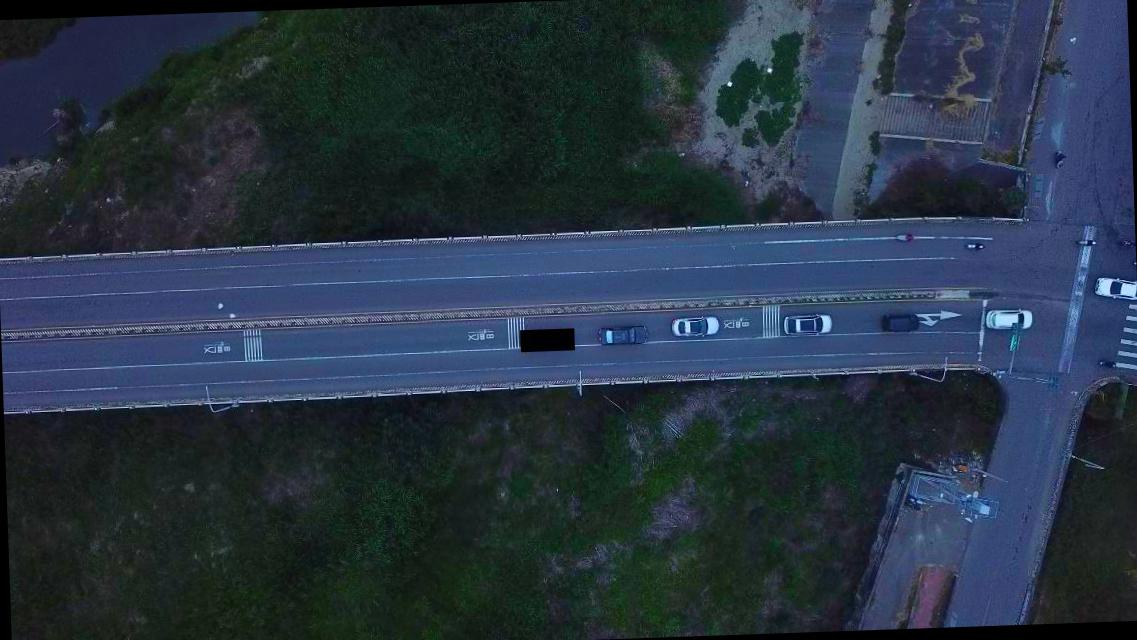vehicle: (982, 306, 1032, 332), (783, 313, 833, 337), (1094, 274, 1136, 302), (668, 316, 720, 338), (596, 326, 647, 346), (880, 314, 920, 333)
